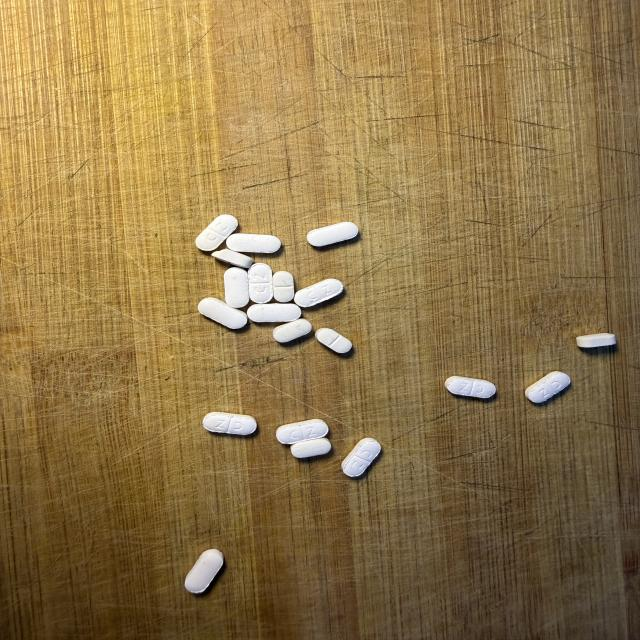pill: (185, 549, 223, 593), (198, 298, 247, 329), (196, 215, 238, 251), (342, 438, 380, 477), (525, 371, 570, 403), (294, 279, 343, 307), (276, 419, 328, 444), (307, 222, 358, 246), (203, 412, 256, 435), (445, 376, 495, 398), (227, 234, 281, 253), (247, 303, 301, 322), (224, 267, 249, 307), (249, 263, 272, 303), (315, 328, 351, 353), (273, 319, 311, 342), (291, 438, 331, 458), (212, 249, 253, 268), (273, 271, 294, 302), (576, 333, 616, 348)
